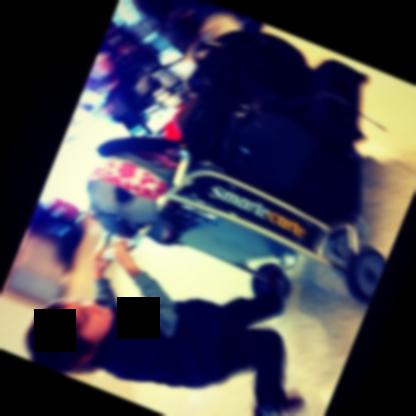backpack: (86, 130, 182, 243)
suitcase: (183, 80, 363, 222)
